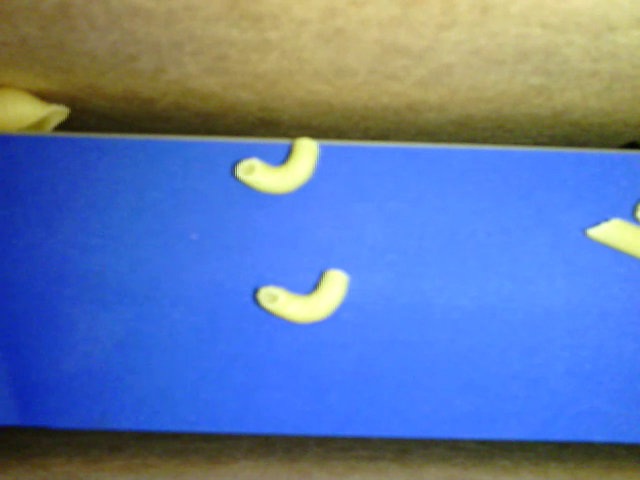elbow: (228, 136, 320, 195), (254, 269, 348, 324)
penne: (583, 216, 639, 259)
shell: (1, 88, 77, 136)
